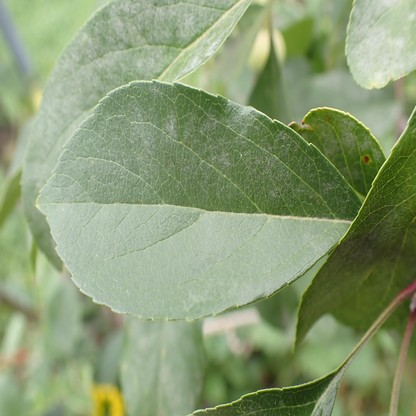frogeye_leaf_spot: (363, 155, 369, 163)
powdery_mildew: (36, 80, 359, 322), (28, 0, 251, 258), (345, 2, 416, 88), (297, 108, 380, 180), (314, 366, 345, 416)
